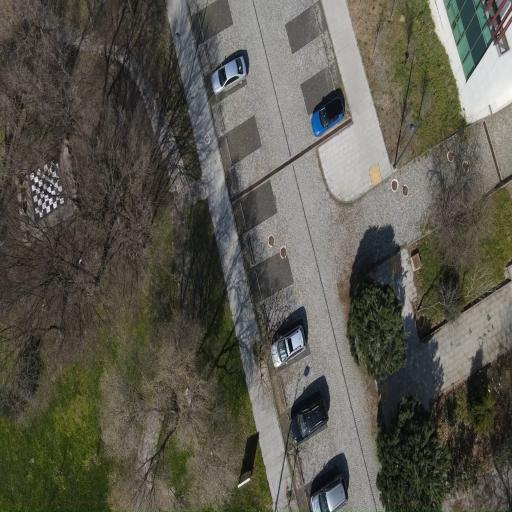car: (291, 394, 328, 442), (271, 326, 305, 367), (312, 93, 344, 136), (311, 475, 347, 511), (212, 56, 246, 94)
